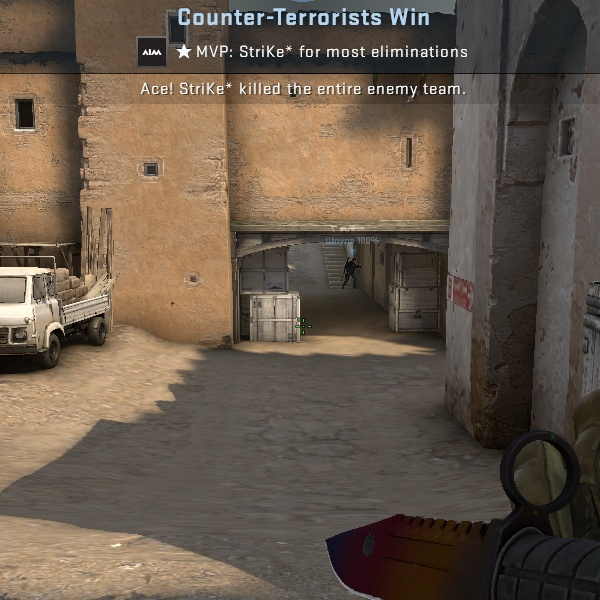ct_body: (342, 256, 361, 288)
ct_head: (352, 257, 357, 264)
